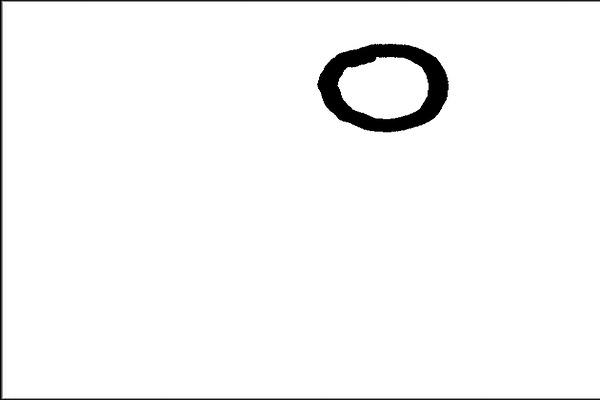O: (307, 29, 453, 139)
